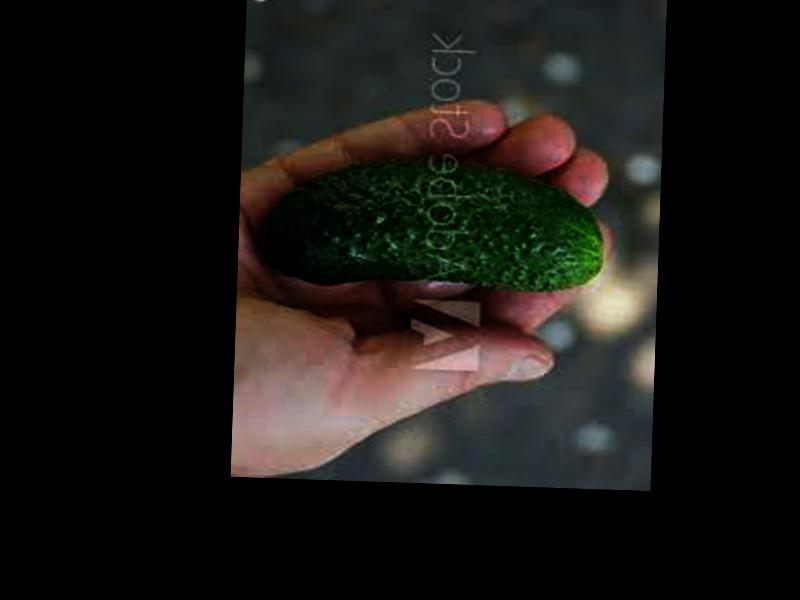Cucumber: (262, 151, 603, 293)
